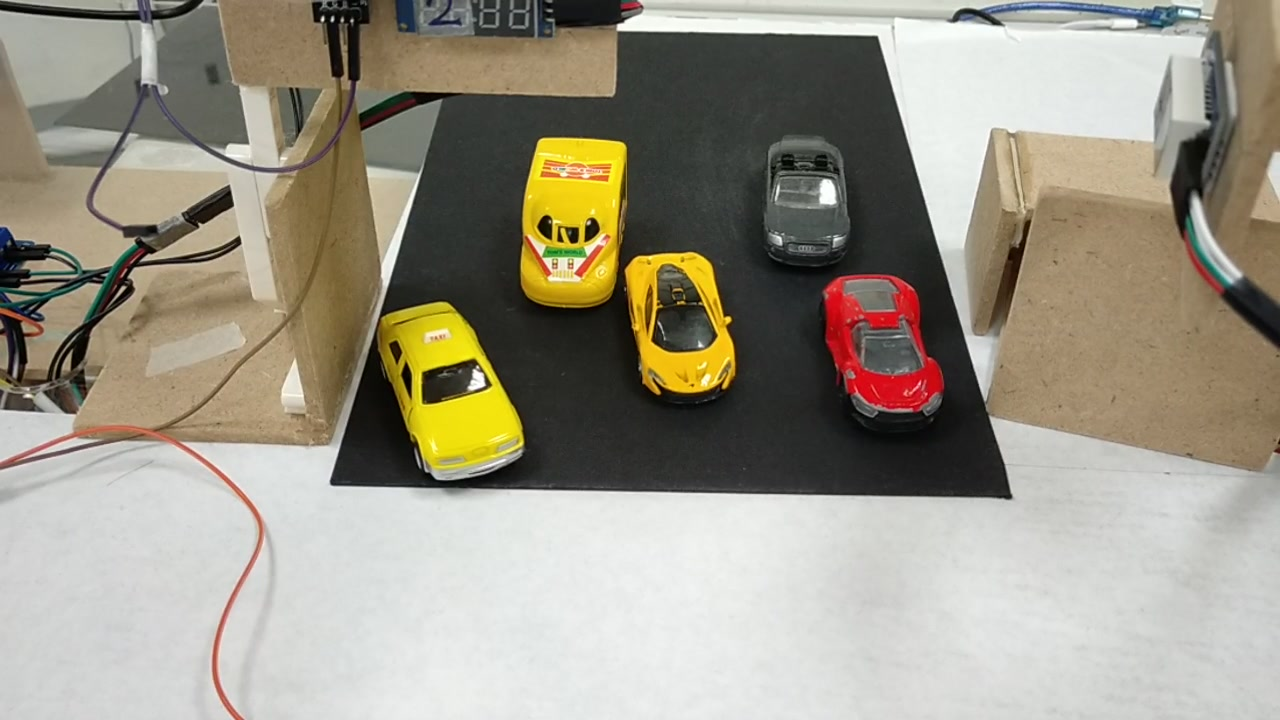car: (371, 305, 531, 481), (818, 274, 948, 432), (619, 256, 739, 401), (757, 137, 851, 270)
